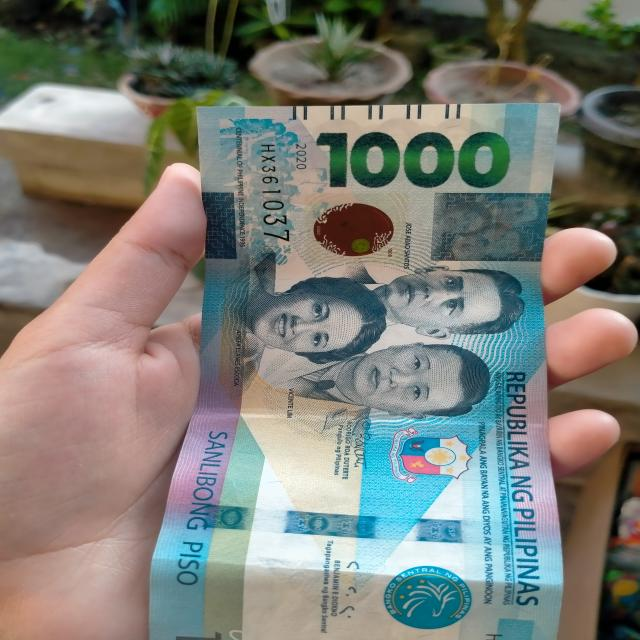concealed_value: (429, 191, 548, 263)
optically_variable_device: (302, 192, 403, 264)
serial_number: (252, 136, 295, 243)
value: (313, 125, 513, 194)
